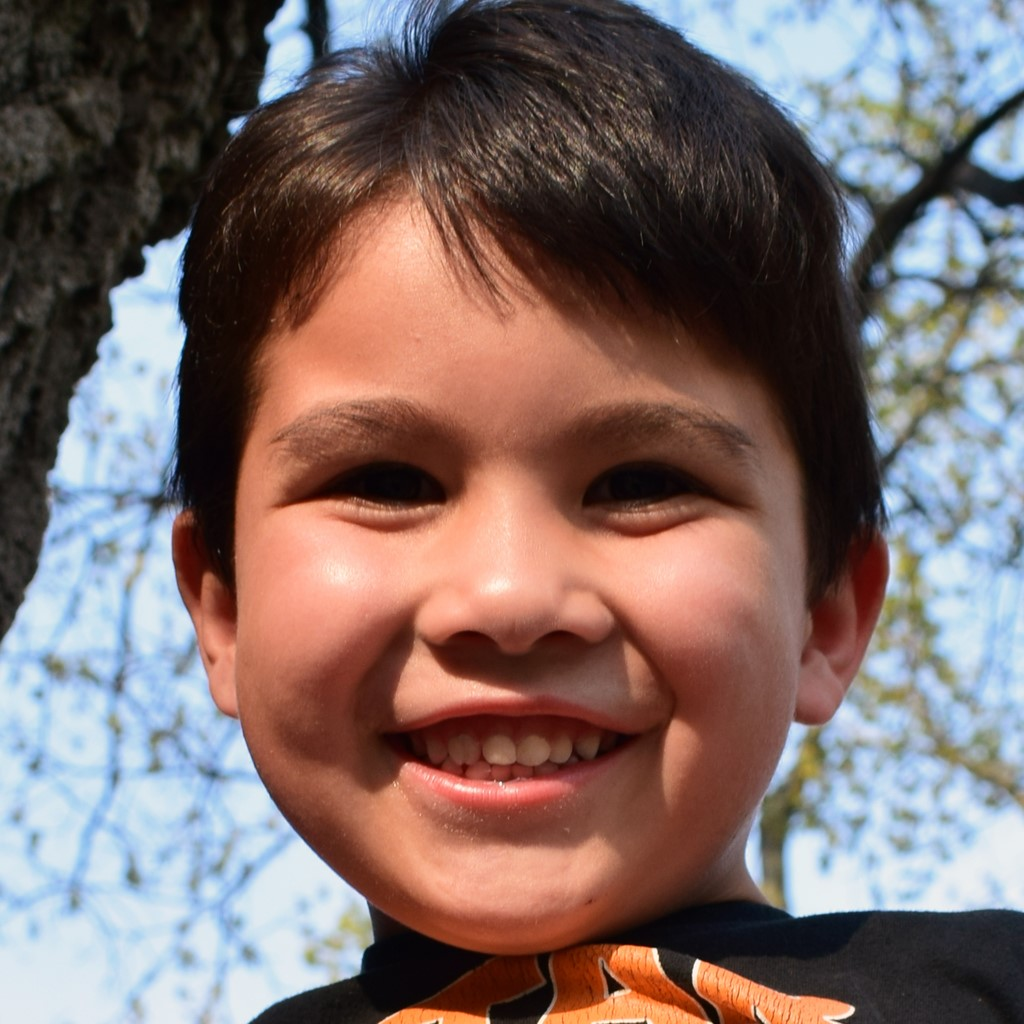sin_mascara: (201, 73, 856, 961)
